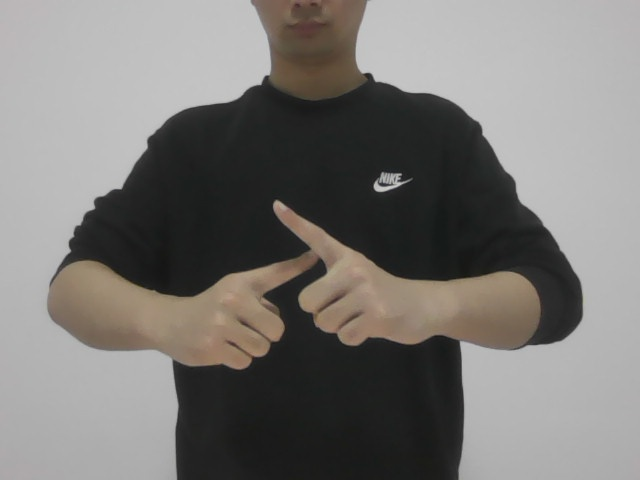peason: (204, 197, 410, 373)
